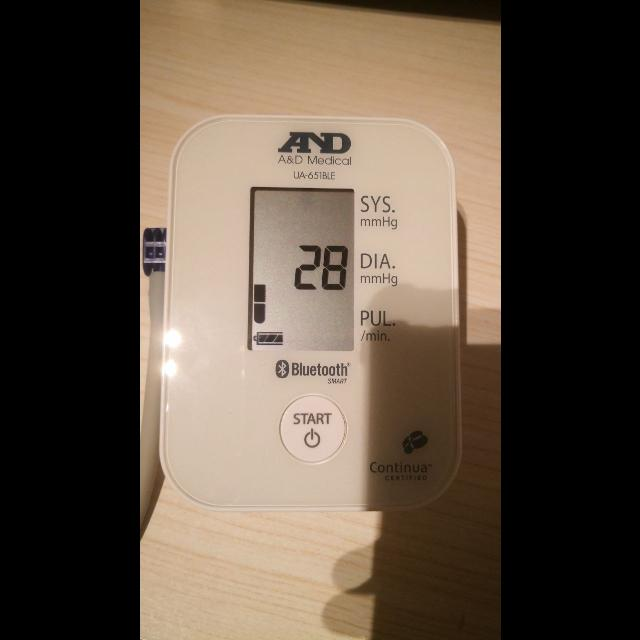Blood-Pressure-Monitor: (158, 112, 462, 512)
